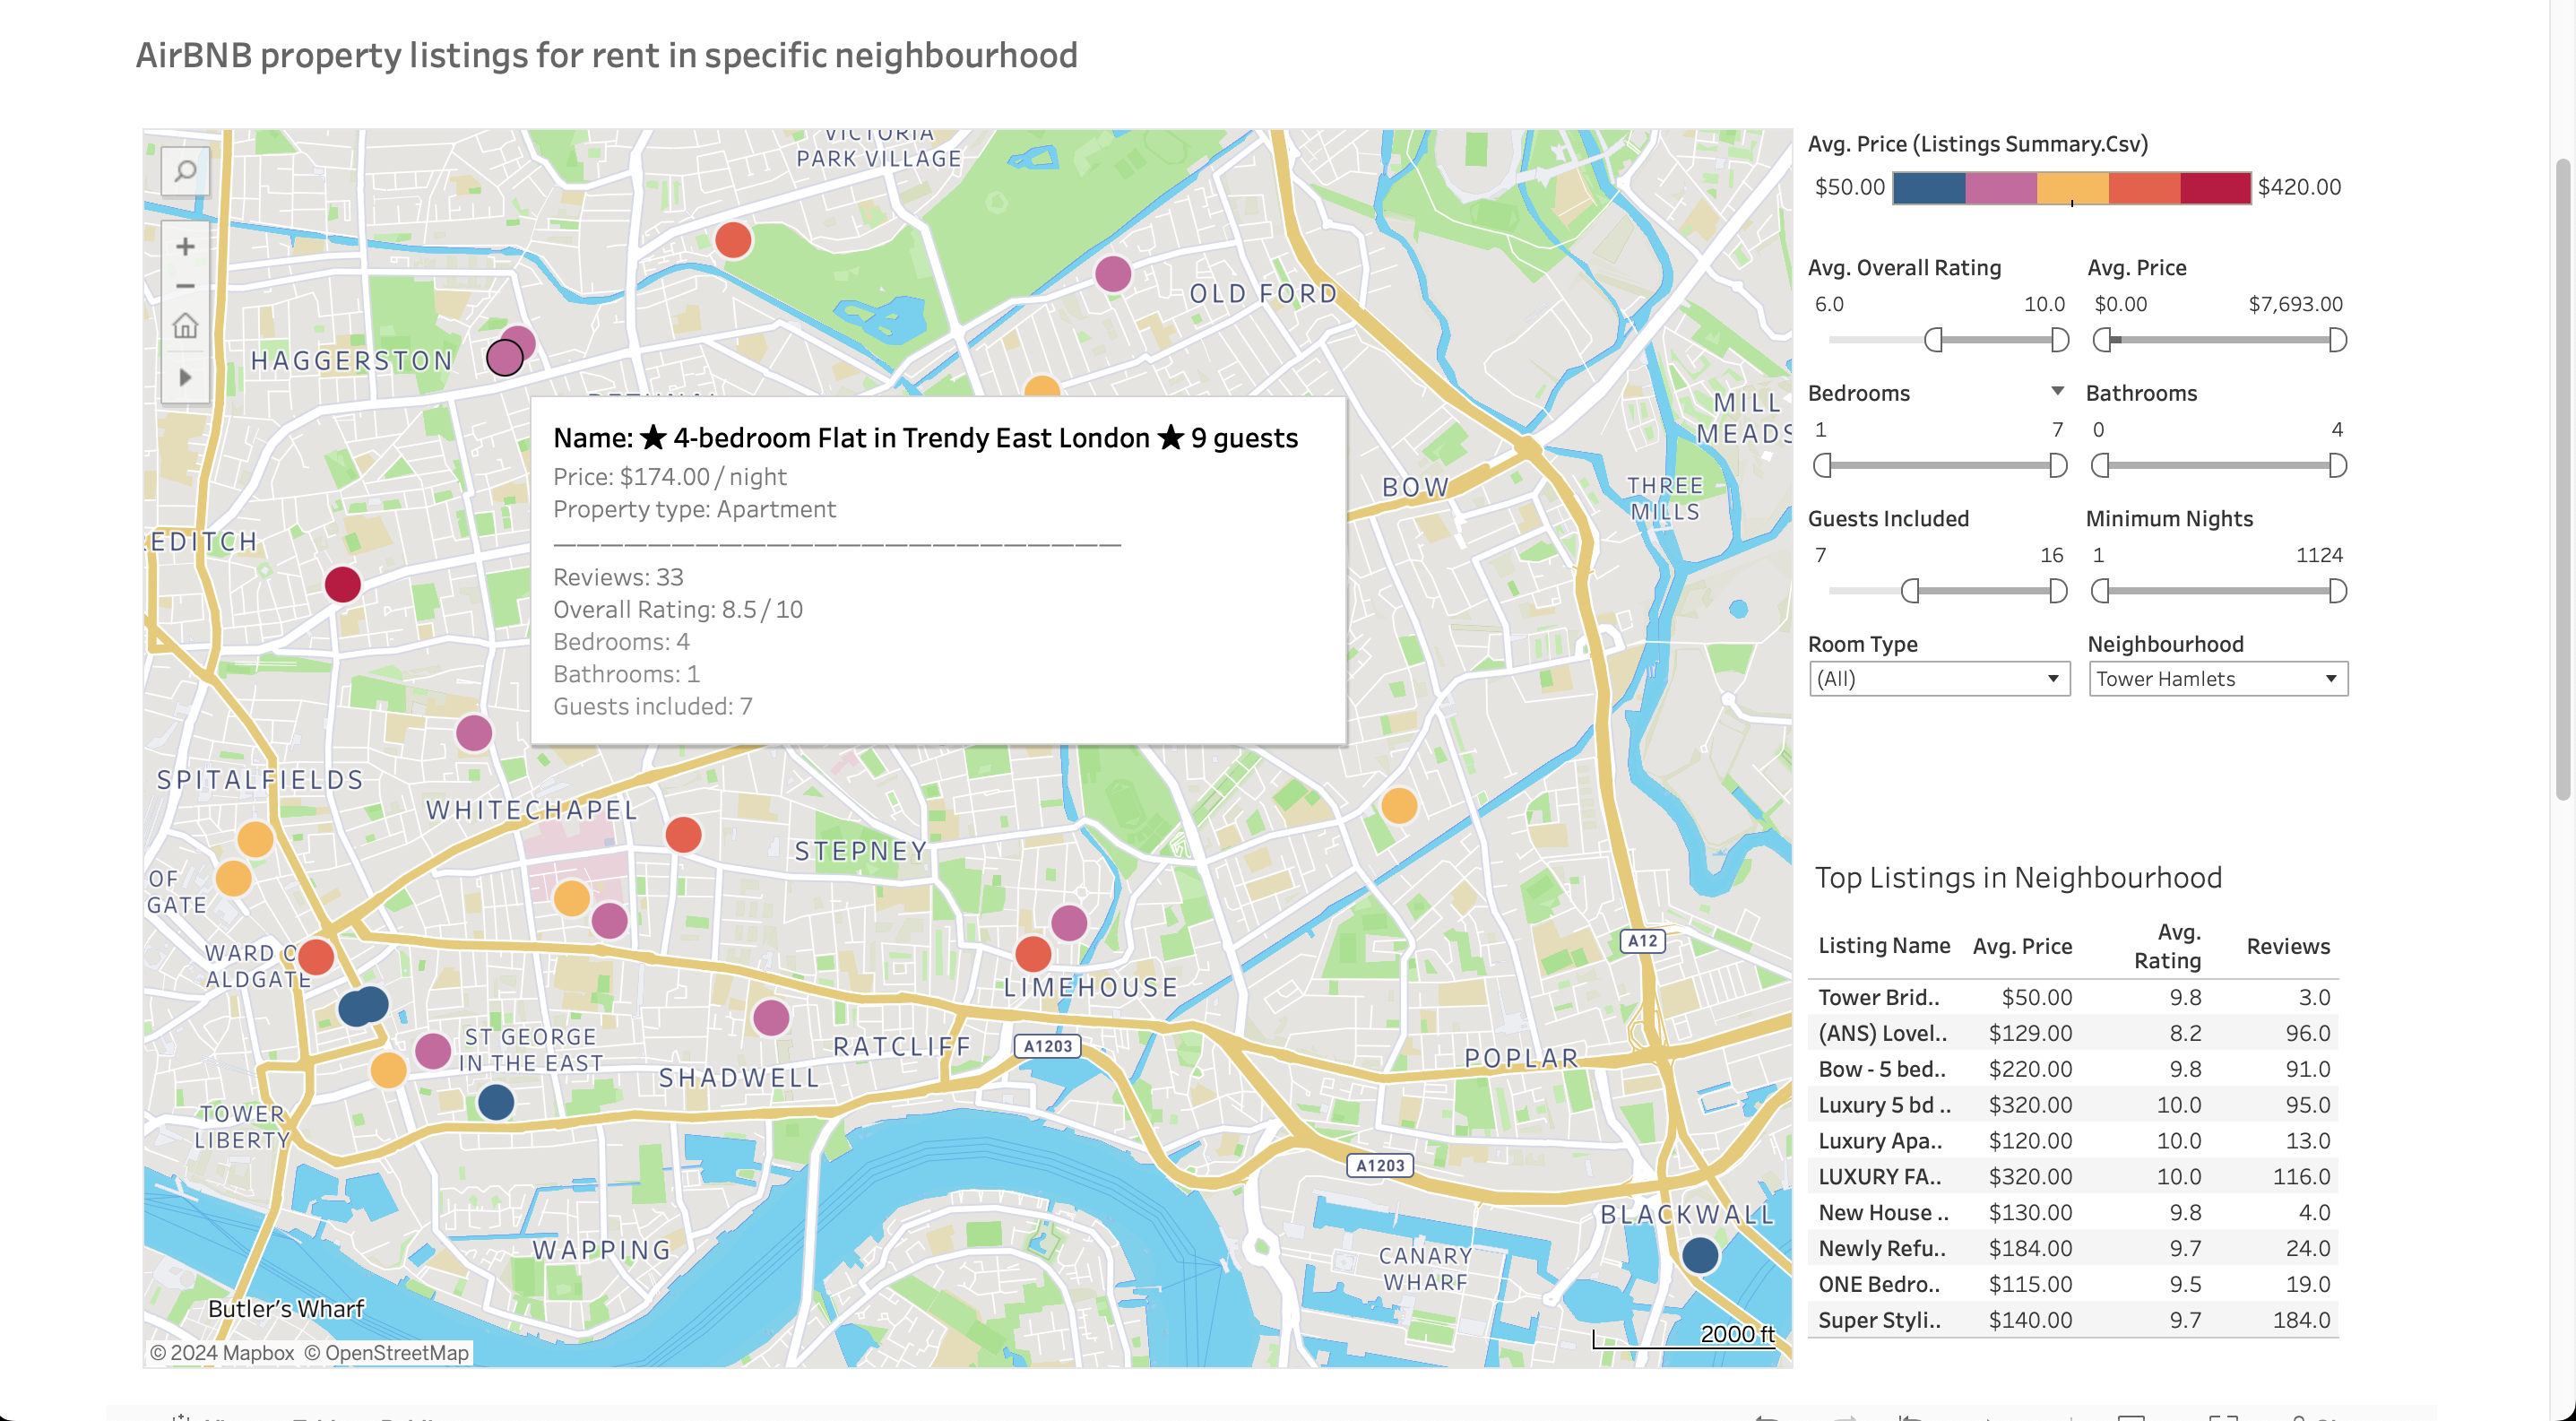

This screenshot's page, from the dashboard's own definition file:
{"tool":"tableau","page":{"name":"Neighbourhood Dashboard","canvas":[1300,800],"ordinal":1},"visuals":[{"type":"text","box":[12,12,1276,68]},{"type":"worksheet","title":"Listings based on neighbourhood","mark":"Automatic","rows":["latitude (listings_summary.csv)"],"cols":["longitude (listings_summary.csv)"],"box":[16,84,929,700]},{"type":"legend","title":"Listings based on neighbourhood","param":"[federated.07x1vm213vxf0q18wj5k70sd92d8].[avg:price (listings_summary.csv):qk]","box":[945,84,311,65]},{"type":"filter","title":"Listings based on neighbourhood","param":"[federated.07x1vm213vxf0q18wj5k70sd92d8].[avg:Calculation_2187201315364352001:qk","box":[945,149,156,69]},{"type":"filter","title":"Listings based on neighbourhood","param":"[federated.07x1vm213vxf0q18wj5k70sd92d8].[avg:price (listings_summary.csv):qk]","box":[1101,149,155,69]},{"type":"filter","title":"Listings based on neighbourhood","param":"[federated.07x1vm213vxf0q18wj5k70sd92d8].[attr:bedrooms:qk]","box":[945,218,155.5,69]},{"type":"filter","title":"Listings based on neighbourhood","param":"[federated.07x1vm213vxf0q18wj5k70sd92d8].[attr:bathrooms:qk]","box":[1100.5,218,155.5,69]},{"type":"filter","title":"Listings based on neighbourhood","param":"[federated.07x1vm213vxf0q18wj5k70sd92d8].[attr:guests_included:qk]","box":[945,287,155.5,69]},{"type":"filter","title":"Listings based on neighbourhood","param":"[federated.07x1vm213vxf0q18wj5k70sd92d8].[none:minimum_nights (listings_summary.","box":[1100.5,287,155.5,69]},{"type":"filter","title":"Listings based on neighbourhood","param":"[federated.07x1vm213vxf0q18wj5k70sd92d8].[none:room_type:nk]","box":[945,356,156,75]},{"type":"filter","title":"Listings based on neighbourhood","param":"[federated.07x1vm213vxf0q18wj5k70sd92d8].[Action (Neighbourhood)]","box":[1101,356,155,75]},{"type":"blank","box":[945,431,311,52]},{"type":"worksheet","title":"Top Listings in Neighbourhood","mark":"Automatic","rows":["name (listings_summary.csv)"],"box":[945,483,311,301]}]}

Visuals, with their boxes on the page's 1300x800 design canvas (x1, y1, x2, y2). These are canvas units, not pixel positions in the 2576x1421 screenshot, which may show the page scaled, cropped or inside an application window:
text: <bbox>12, 12, 1288, 80</bbox>
"Listings based on neighbourhood" worksheet: <bbox>16, 84, 945, 784</bbox>
"Listings based on neighbourhood" legend: <bbox>945, 84, 1256, 149</bbox>
"Listings based on neighbourhood" filter: <bbox>945, 149, 1101, 218</bbox>
"Listings based on neighbourhood" filter: <bbox>1101, 149, 1256, 218</bbox>
"Listings based on neighbourhood" filter: <bbox>945, 218, 1100, 287</bbox>
"Listings based on neighbourhood" filter: <bbox>1100, 218, 1256, 287</bbox>
"Listings based on neighbourhood" filter: <bbox>945, 287, 1100, 356</bbox>
"Listings based on neighbourhood" filter: <bbox>1100, 287, 1256, 356</bbox>
"Listings based on neighbourhood" filter: <bbox>945, 356, 1101, 431</bbox>
"Listings based on neighbourhood" filter: <bbox>1101, 356, 1256, 431</bbox>
blank: <bbox>945, 431, 1256, 483</bbox>
"Top Listings in Neighbourhood" worksheet: <bbox>945, 483, 1256, 784</bbox>
